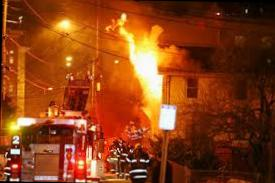Fire: (111, 25, 181, 119)
Smoke: (133, 23, 208, 73)
